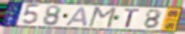5: (20, 3, 44, 26)
8: (143, 8, 164, 30), (42, 5, 63, 27)
A: (64, 6, 89, 27)
M: (87, 6, 119, 29)
T: (124, 8, 142, 28)
